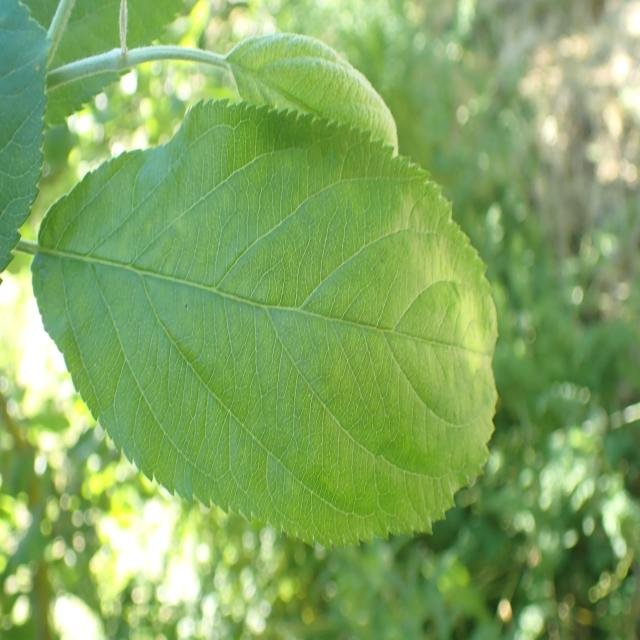healthy: (32, 96, 500, 550), (225, 31, 399, 158), (0, 0, 52, 287)
